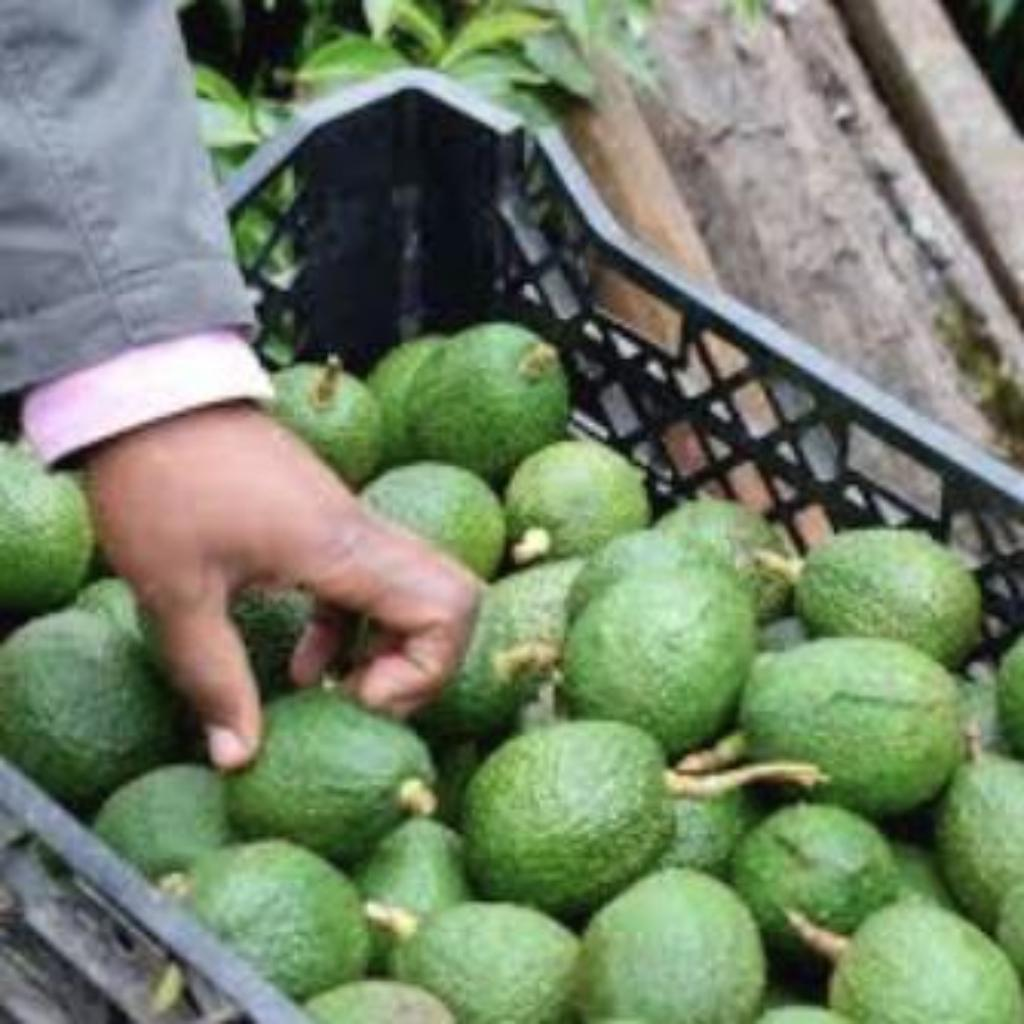Healthy: (455, 748, 703, 920), (546, 578, 778, 746)
